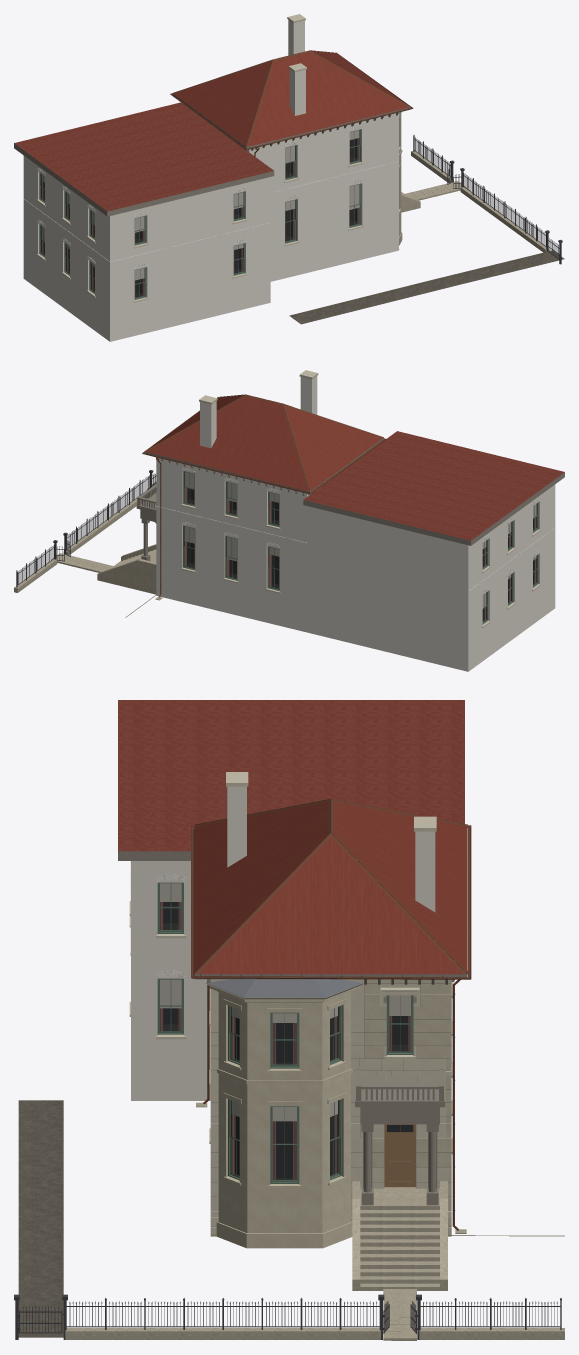
Rendered from marsh_house_1824_prairie__as_mapped_1904.glb.
3 renders of one model, top to bottom at view 1: azimuth 30°, elevation 25°; view 2: azimuth 150°, elevation 25°; view 3: azimuth 270°, elevation 25°, orthographic. The views are drawn at different scales.
Parts seen in each view (by area): view 1: marsh_house_1824_prairie__as_mapped_1904; view 2: marsh_house_1824_prairie__as_mapped_1904; view 3: marsh_house_1824_prairie__as_mapped_1904.
Boxes of the visible parts, x1,y1,x2,y2 form: marsh_house_1824_prairie__as_mapped_1904: (14, 14, 564, 341); marsh_house_1824_prairie__as_mapped_1904: (14, 370, 564, 671); marsh_house_1824_prairie__as_mapped_1904: (14, 700, 564, 1340).
Bounding box in the file's own units: 34.85 × 15.72 × 20.79.
25 materials, 9 textured.
